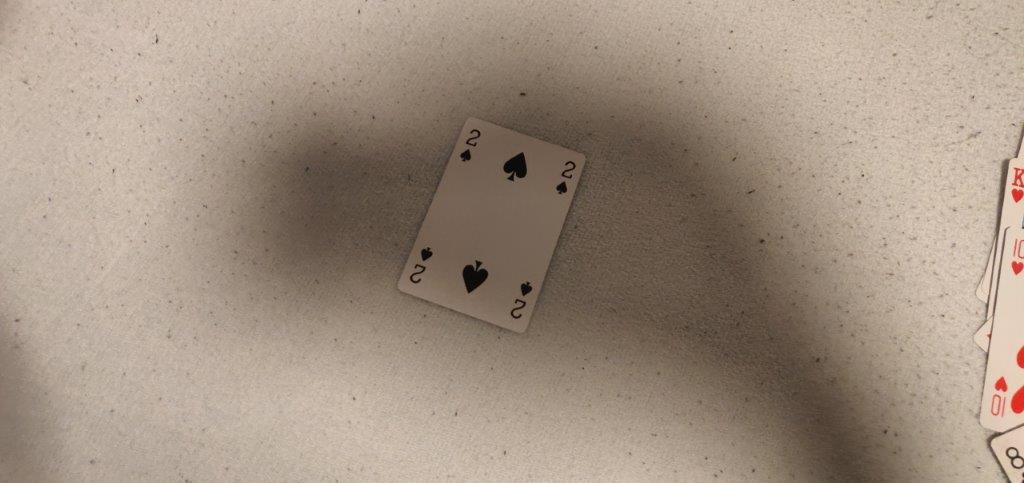2S: (456, 127, 484, 167)
